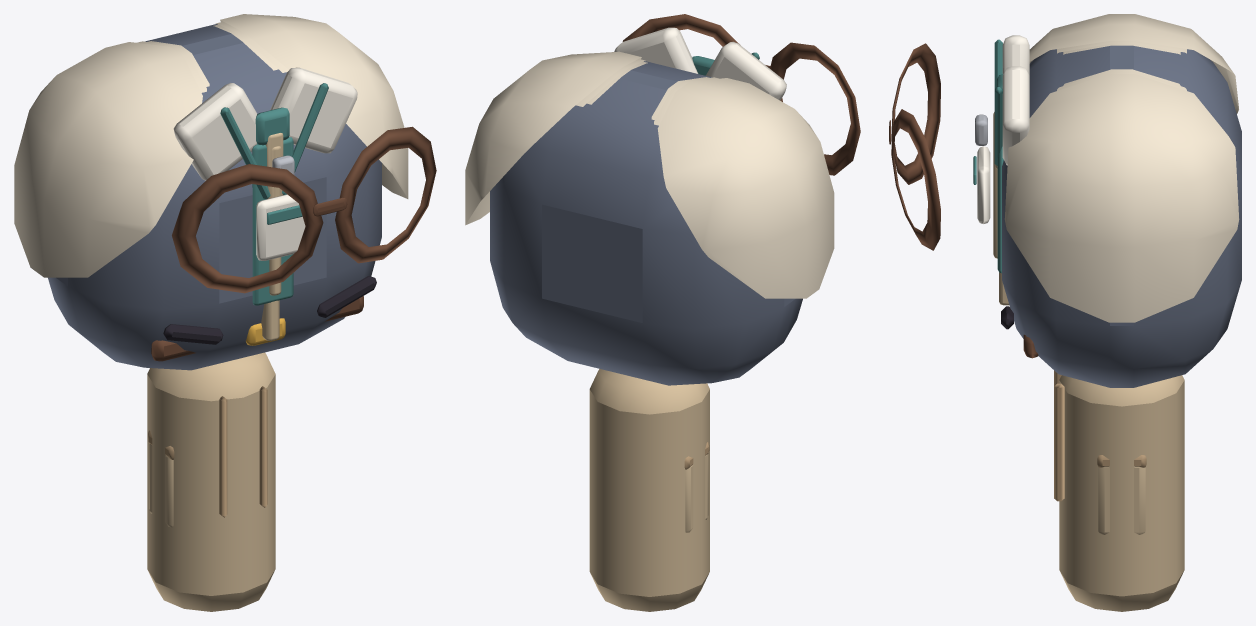
Rendered from era_attire.glb.
3 views of the same model, side by side, from view 1: azimuth 30°, elevation 25°; view 2: azimuth 150°, elevation 25°; view 3: azimuth 270°, elevation 25° (orthographic). The views are drawn at different scales.
Parts seen in each view (by area): view 1: attire_fleece, attire_raglan_2, attire_khaki, attire_glasses, attire_shirt, attire_lanyard, attire_cargo_l, attire_raglan_1, attire_raglan_0, attire_polo; view 2: attire_fleece, attire_raglan_2, attire_khaki, attire_glasses, attire_polo, attire_cargo_l, attire_raglan_1; view 3: attire_raglan_2, attire_fleece, attire_khaki, attire_glasses, attire_lanyard, attire_cargo_r, attire_shirt, attire_raglan_1, attire_raglan_0.
Boxes of the visible parts, box(x1,y1,x2,y2) form: attire_fleece: box(48, 24, 381, 370); attire_raglan_2: box(14, 14, 408, 277); attire_khaki: box(147, 352, 275, 611); attire_glasses: box(172, 126, 436, 293); attire_shirt: box(151, 107, 363, 361); attire_lanyard: box(220, 83, 328, 260); attire_cargo_l: box(148, 430, 174, 527); attire_raglan_1: box(137, 21, 288, 92); attire_raglan_0: box(148, 24, 278, 86); attire_polo: box(265, 70, 356, 198); attire_fleece: box(490, 27, 802, 385); attire_raglan_2: box(465, 51, 834, 298); attire_khaki: box(589, 369, 709, 611); attire_glasses: box(622, 14, 860, 175); attire_polo: box(614, 28, 697, 73); attire_cargo_l: box(684, 442, 709, 532); attire_raglan_1: box(576, 59, 718, 125); attire_raglan_2: box(1004, 14, 1239, 322); attire_fleece: box(975, 35, 1241, 387); attire_khaki: box(1054, 370, 1184, 611); attire_glasses: box(889, 43, 940, 250); attire_lanyard: box(973, 39, 1002, 223); attire_cargo_r: box(1097, 455, 1146, 534); attire_shirt: box(996, 74, 1038, 358); attire_raglan_1: box(1057, 41, 1186, 90); attire_raglan_0: box(1063, 43, 1180, 85).
Size of the model in its own units: 0.363 by 0.5571 by 0.3266.
